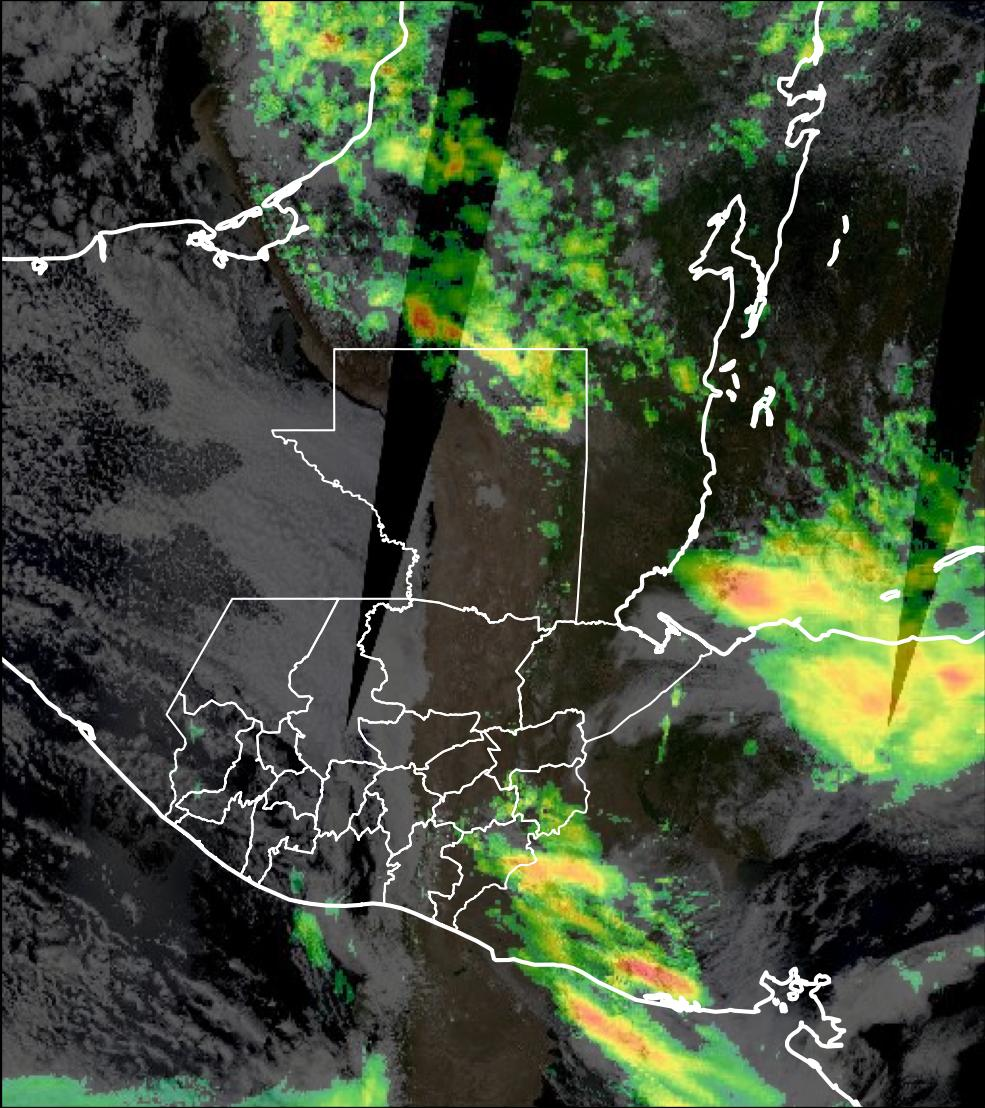precipitacion: (693, 537, 857, 636), (821, 647, 933, 767)
